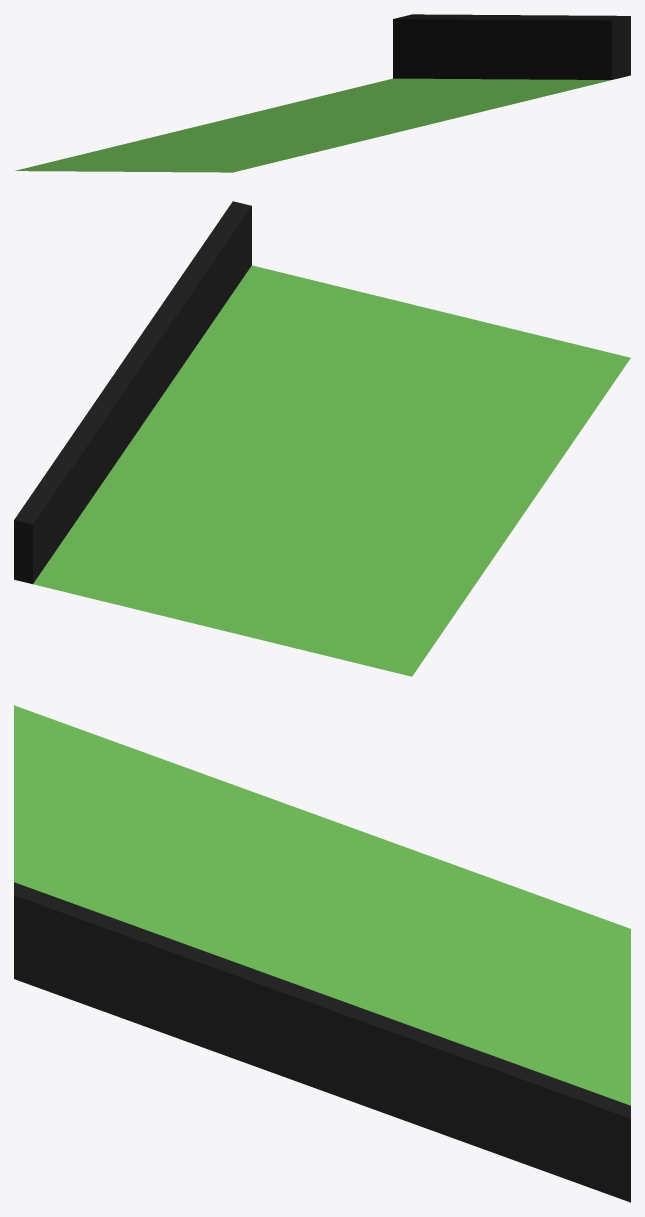
The model's file is tile4_ramp1.fbx.
The picture shows the model from 3 angles, top to bottom: view 1: azimuth 30°, elevation 25°; view 2: azimuth 150°, elevation 25°; view 3: azimuth 270°, elevation 25°; orthographic projection. The views are drawn at different scales.
Parts seen in each view (by area): view 1: T3_Ramp; view 2: T3_Ramp; view 3: T3_Ramp.
Boxes of the visible parts, x1,y1,x2,y2 form: T3_Ramp: (15, 14, 630, 172); T3_Ramp: (14, 201, 630, 676); T3_Ramp: (14, 705, 630, 1202).
Size of the model in its own units: 210 by 110 by 200.
